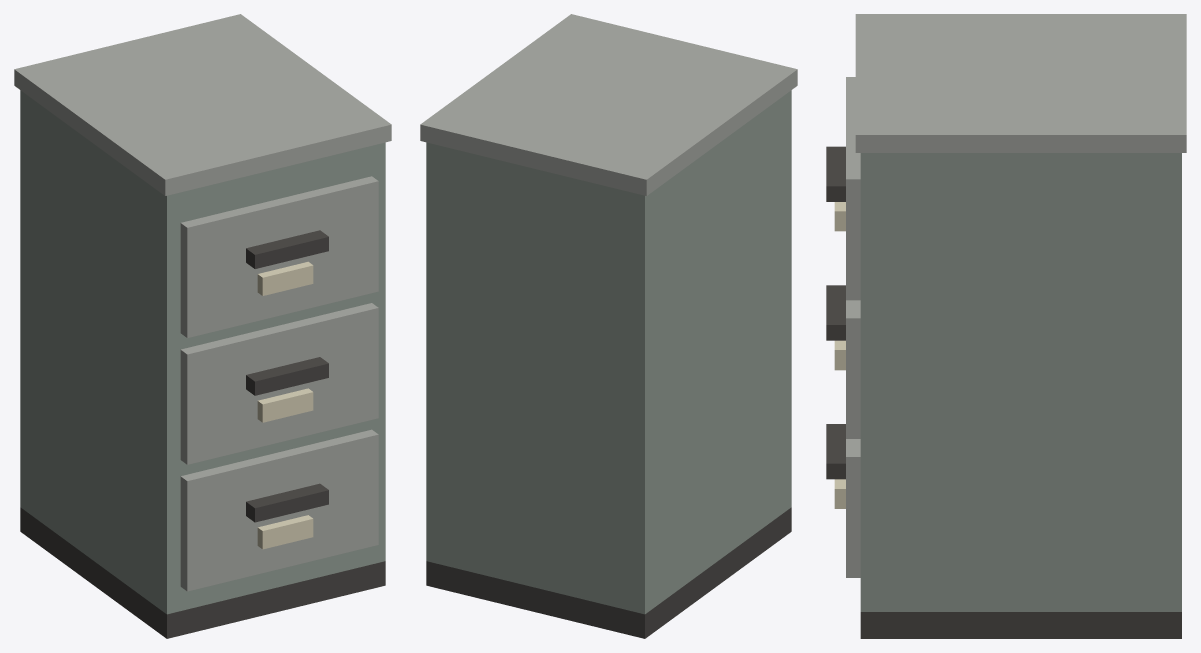
File: signal-house-three-drawer-file-cabinet__203.glb
3 views of the same model, side by side, from view 1: azimuth 30°, elevation 25°; view 2: azimuth 150°, elevation 25°; view 3: azimuth 270°, elevation 25° (orthographic). The views are drawn at different scales.
Parts seen in each view (by area): view 1: metal, shell, dark, paper; view 2: shell, metal, dark; view 3: shell, metal, dark, paper.
Part boxes in pixels (x1,y1,x2,y2): metal: [14, 14, 391, 591]; shell: [20, 90, 385, 614]; dark: [20, 230, 385, 638]; paper: [257, 261, 313, 549]; shell: [426, 90, 791, 614]; metal: [420, 14, 797, 195]; dark: [426, 507, 791, 638]; shell: [860, 153, 1181, 611]; metal: [846, 14, 1186, 577]; dark: [826, 146, 1181, 638]; paper: [834, 202, 845, 508].
Size of the model in its own units: 0.58 by 1.13 by 0.73.
